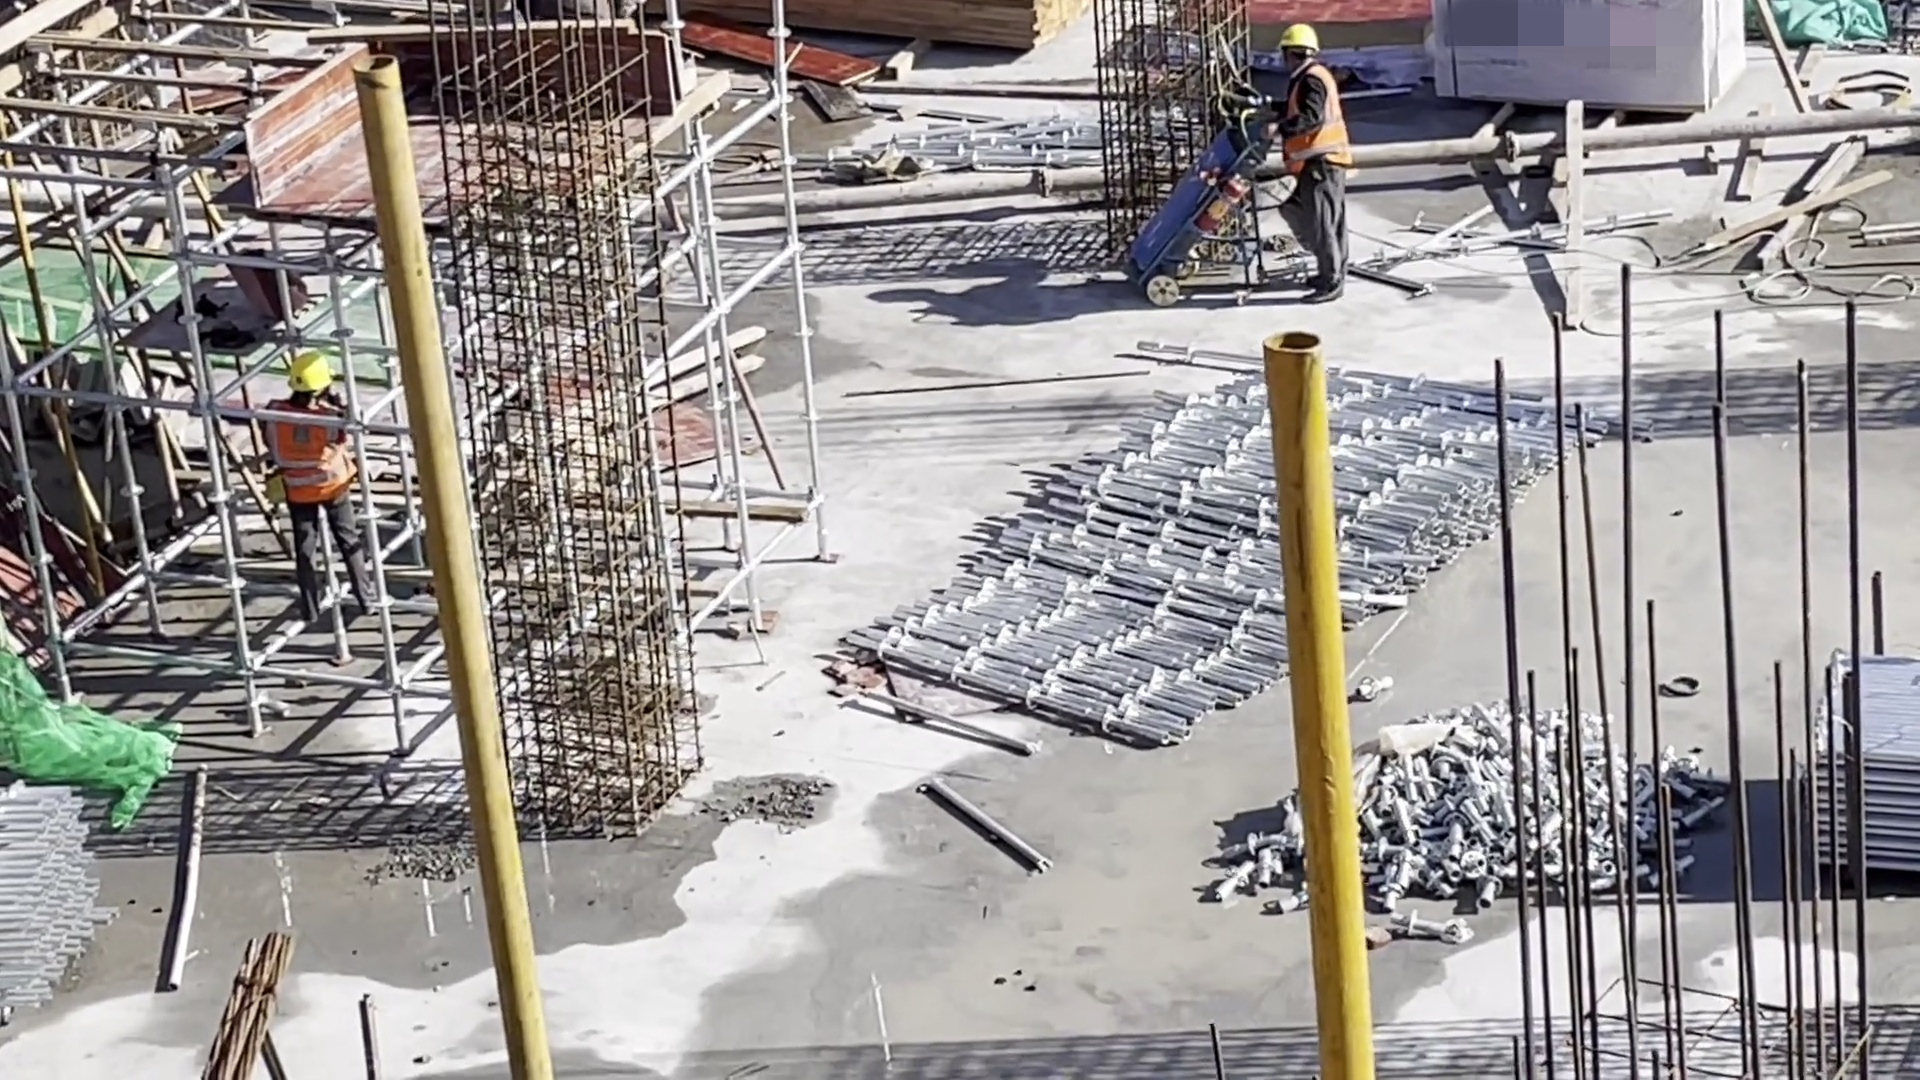helmet: (291, 353, 329, 390), (1277, 25, 1321, 53)
person: (267, 356, 374, 619), (1260, 27, 1358, 300)
vest: (273, 402, 355, 508), (1285, 64, 1351, 169)
